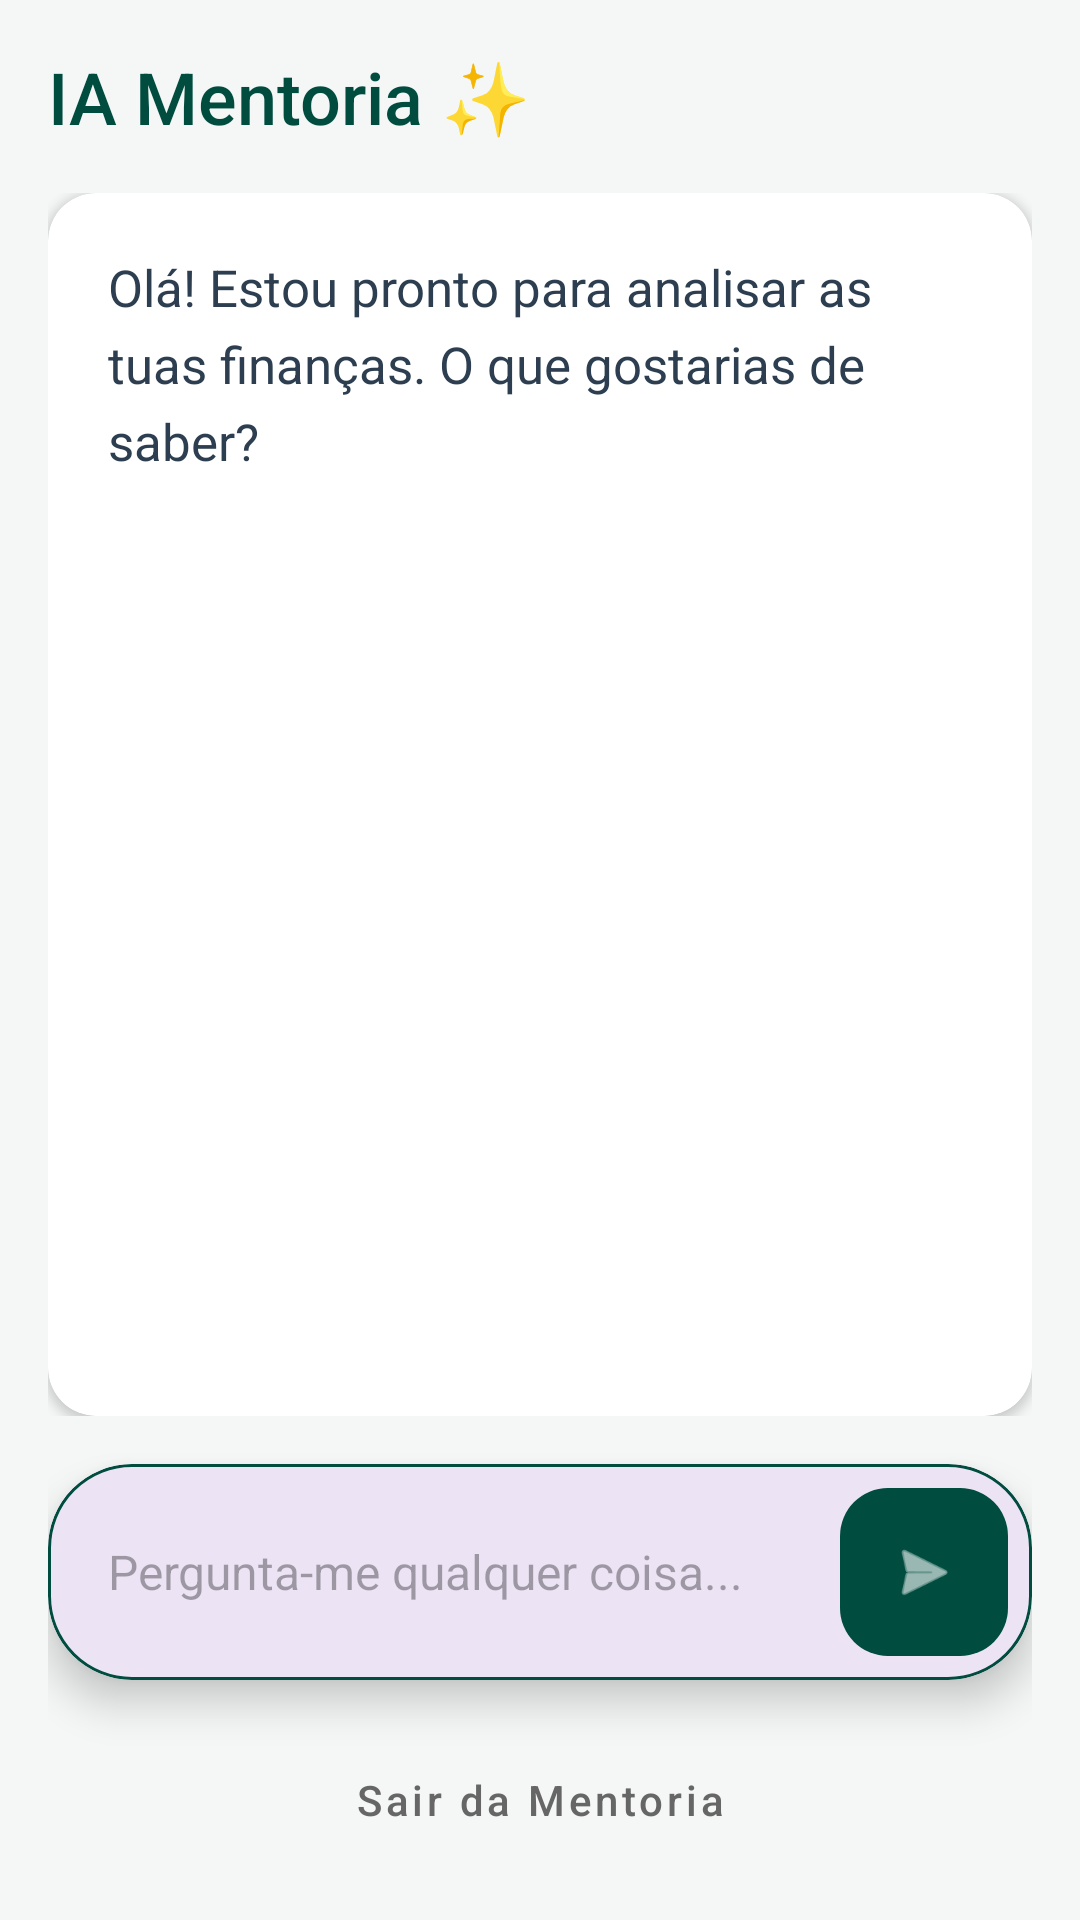

Where icons sit on this 1080px x 1920px app screen, as (x1, y1, x2, y2):
Enviar: (840, 1488, 1008, 1656)
